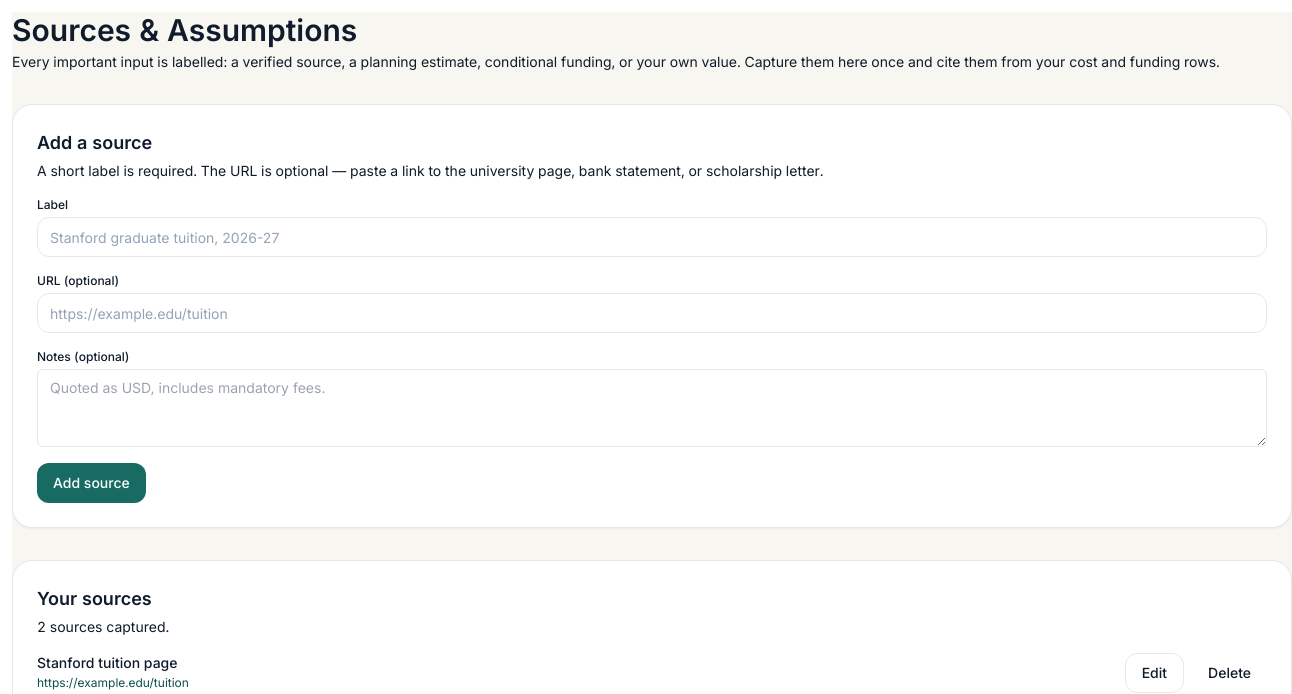
Test: SourcesWorkspace › refuses to submit when the label is empty
The image size is (1292, 694).
expect the text "Stanford tuition page" is shown: met, box x1=37 y1=654 x2=178 y2=671
Click the button "Add source" at (91, 483), box x1=37 y1=463 x2=146 y2=503
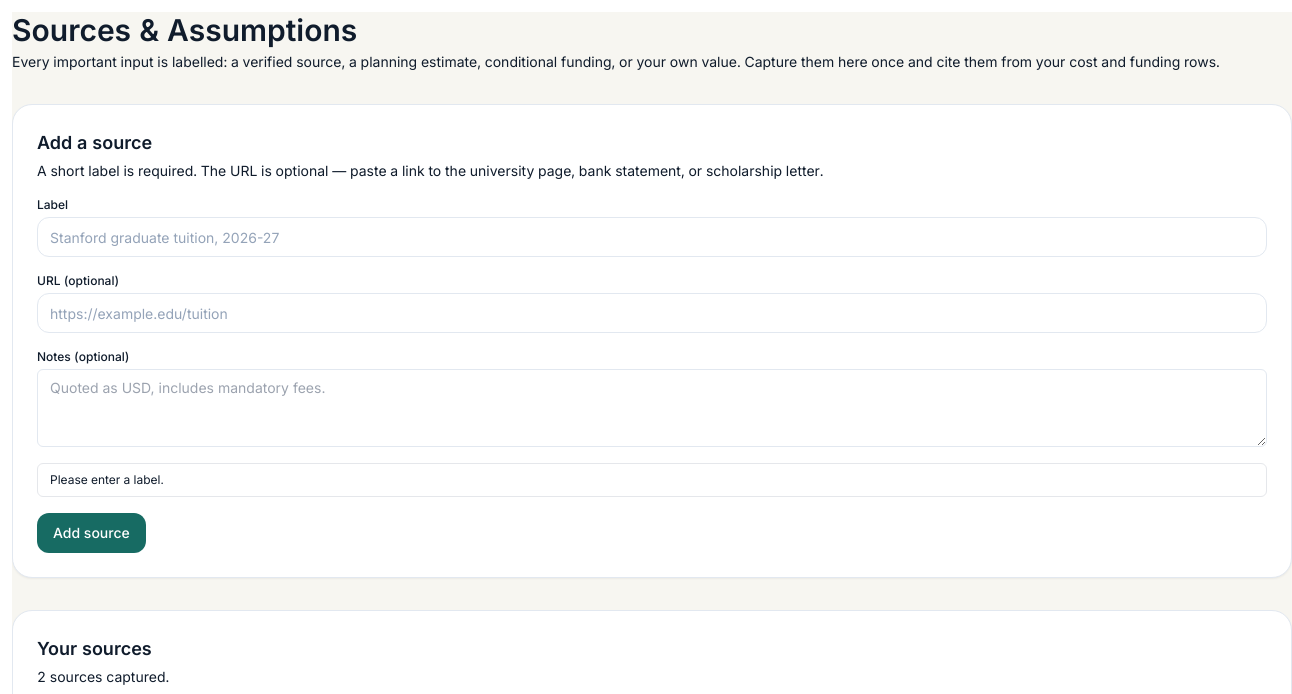
expect the message shows "Please enter a label": met, box x1=50 y1=472 x2=164 y2=487
